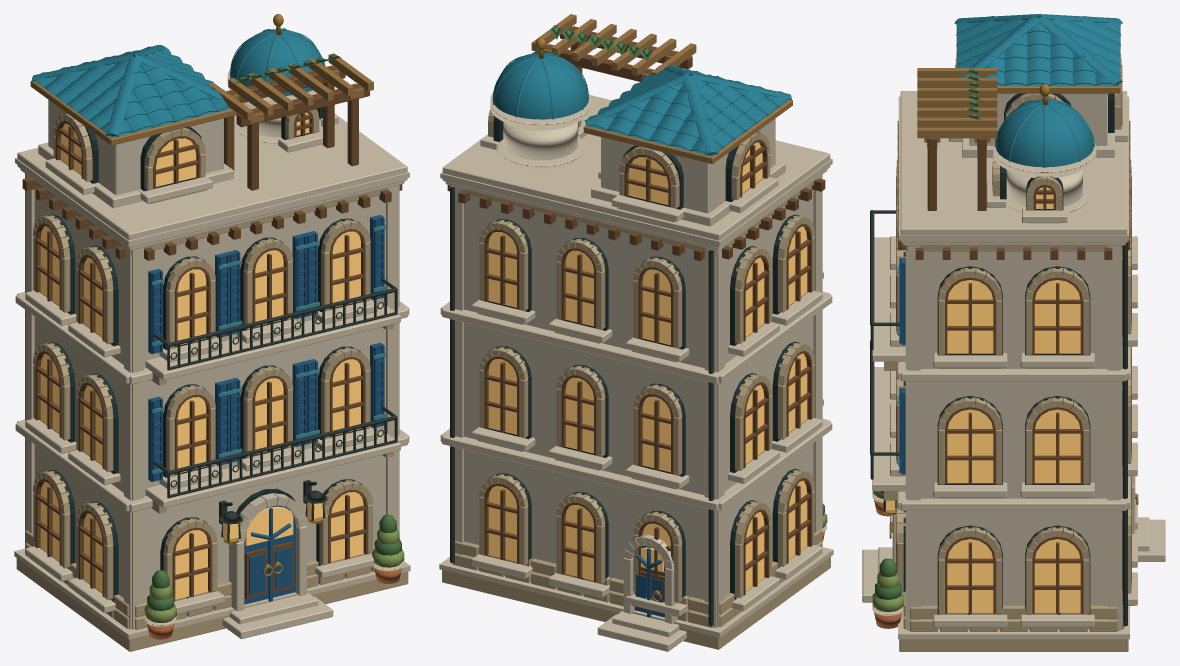
The picture shows the model from 3 angles, left to right: view 1: azimuth 30°, elevation 25°; view 2: azimuth 150°, elevation 25°; view 3: azimuth 270°, elevation 25°; orthographic projection.
Parts seen in each view (by area): view 1: harbor_villa_3_geometry, harbor_villa_3_geometry ceramic; view 2: harbor_villa_3_geometry, harbor_villa_3_geometry ceramic; view 3: harbor_villa_3_geometry, harbor_villa_3_geometry ceramic.
Part boxes in pixels (x1=…): harbor_villa_3_geometry: x1=14, y1=14, x2=410, y2=651; harbor_villa_3_geometry ceramic: x1=31, y1=28, x2=386, y2=473; harbor_villa_3_geometry: x1=439, y1=14, x2=833, y2=651; harbor_villa_3_geometry ceramic: x1=492, y1=52, x2=791, y2=156; harbor_villa_3_geometry: x1=862, y1=28, x2=1165, y2=651; harbor_villa_3_geometry ceramic: x1=898, y1=14, x2=1122, y2=465.
Size of the model in its own units: 0.99 by 1.7 by 0.8667.
